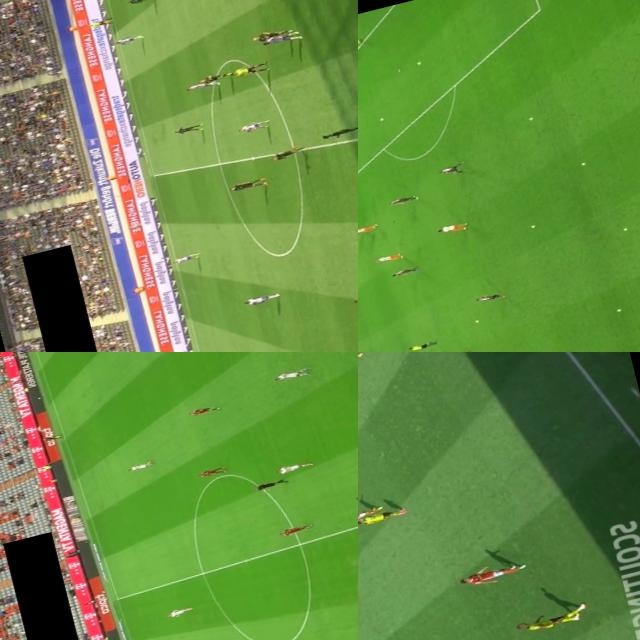ball: (528, 223, 537, 230), (378, 116, 386, 122), (526, 116, 534, 122), (622, 227, 628, 232), (415, 61, 421, 66), (579, 162, 586, 166), (473, 320, 480, 324), (615, 308, 620, 313)
player: (514, 604, 592, 636), (452, 558, 522, 590), (264, 142, 310, 164), (358, 506, 404, 528), (316, 121, 358, 143), (120, 456, 162, 478), (257, 28, 300, 48), (268, 364, 310, 384), (247, 24, 290, 43), (276, 520, 315, 540), (226, 174, 266, 193), (241, 290, 280, 309), (181, 77, 220, 96), (274, 459, 314, 476), (109, 30, 146, 48), (192, 464, 230, 481), (188, 402, 222, 419), (358, 504, 382, 527), (164, 603, 194, 621), (235, 120, 268, 136), (170, 250, 202, 266), (172, 121, 204, 137), (198, 70, 228, 86), (438, 220, 467, 236), (474, 292, 505, 306), (437, 163, 463, 179), (387, 195, 418, 208), (342, 283, 358, 307), (390, 266, 419, 279), (374, 252, 404, 264), (358, 223, 379, 235), (125, 0, 154, 5), (358, 226, 366, 238)
